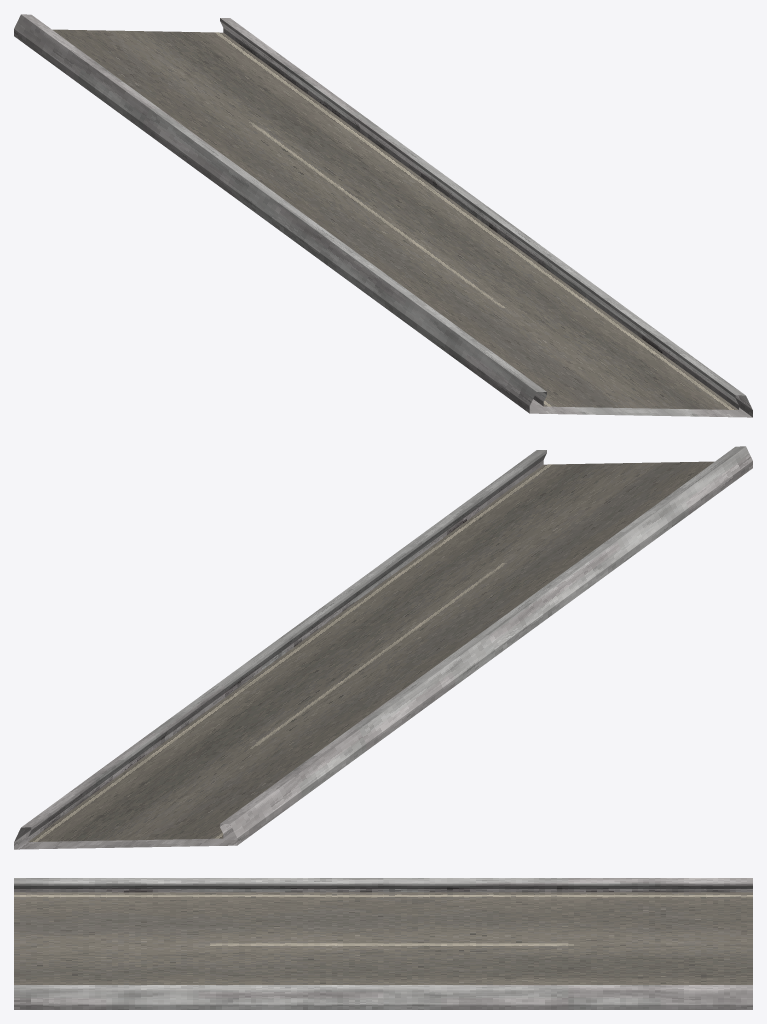
File: straight4.glb
3 renders of one model, top to bottom at view 1: azimuth 30°, elevation 25°; view 2: azimuth 150°, elevation 25°; view 3: azimuth 270°, elevation 25°, orthographic. The views are drawn at different scales.
Visible parts, largest first — view 1: road-Straight-HalfBankedRight-HalfBankedRight-Even-Center-Si; view 2: road-Straight-HalfBankedRight-HalfBankedRight-Even-Center-Si; view 3: road-Straight-HalfBankedRight-HalfBankedRight-Even-Center-Si.
Part boxes in pixels (bbox=[...]): road-Straight-HalfBankedRight-HalfBankedRight-Even-Center-Si: bbox=[14, 14, 752, 417]; road-Straight-HalfBankedRight-HalfBankedRight-Even-Center-Si: bbox=[14, 446, 752, 849]; road-Straight-HalfBankedRight-HalfBankedRight-Even-Center-Si: bbox=[14, 878, 752, 1009].
Bounding box in the file's own units: 1 × 0.3359 × 4.
2 materials, 2 textured.
